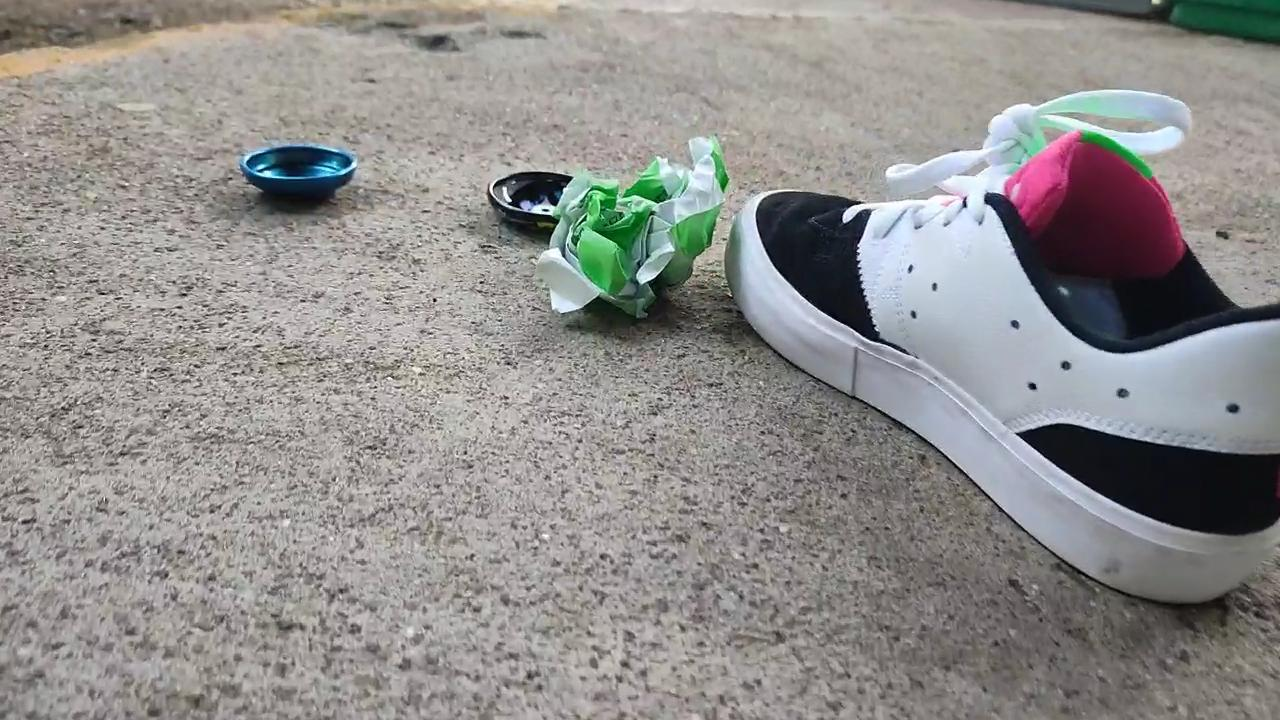Paper: (531, 128, 745, 332)
